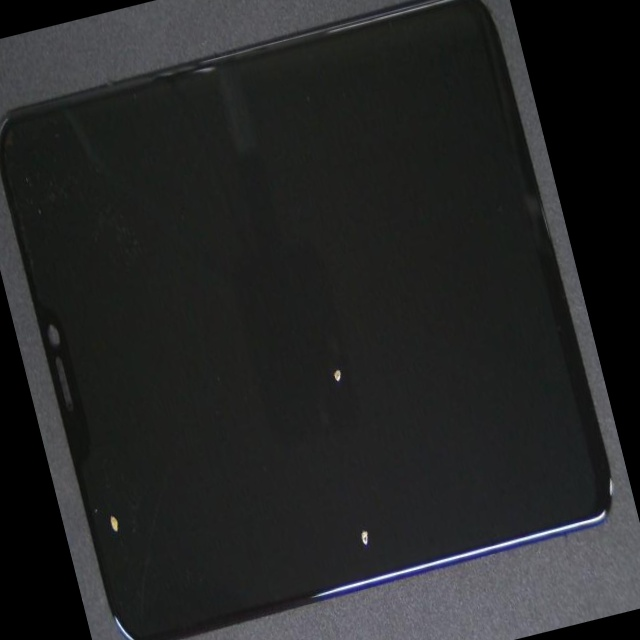stain: (154, 189, 530, 640), (161, 132, 510, 566), (26, 236, 182, 640)
